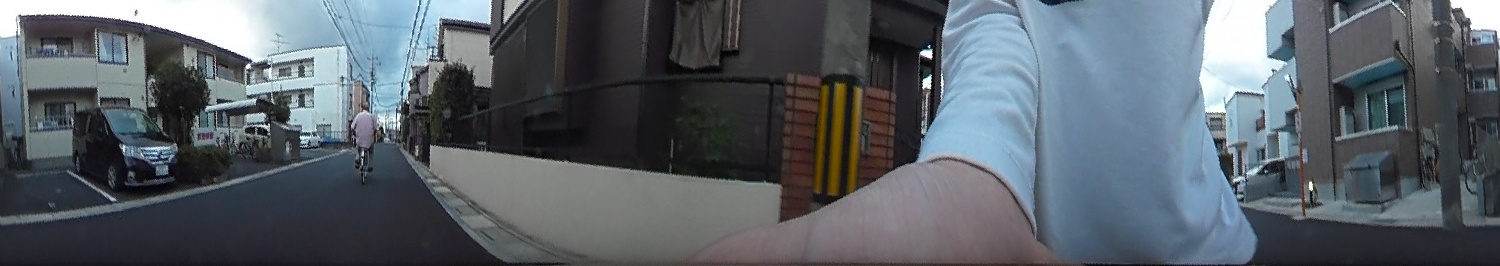person: (346, 95, 378, 171)
